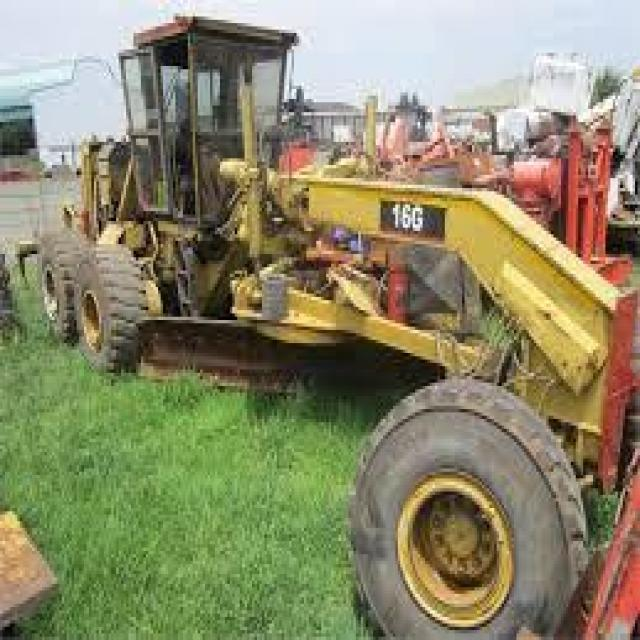Grader: (27, 3, 638, 637)
